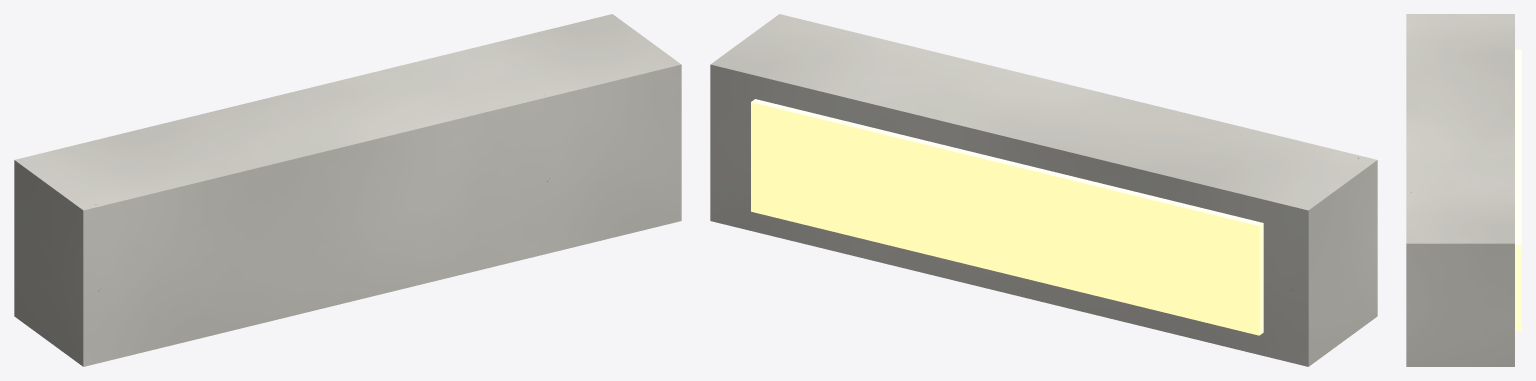
Rendered from light_emergency.glb.
3 views of the same model, side by side, from view 1: azimuth 30°, elevation 25°; view 2: azimuth 150°, elevation 25°; view 3: azimuth 270°, elevation 25° (orthographic). The views are drawn at different scales.
Visible parts, largest first — view 1: light_emergency; view 2: light_emergency; view 3: light_emergency.
Boxes of the visible parts, left/top/right/bottom form: light_emergency: left=14, top=14, right=681, bottom=366; light_emergency: left=710, top=14, right=1377, bottom=366; light_emergency: left=1406, top=14, right=1521, bottom=366.
Bounding box in the file's own units: 0.4 × 0.1 × 0.085.
Materials: 2 (1 with a texture image).
